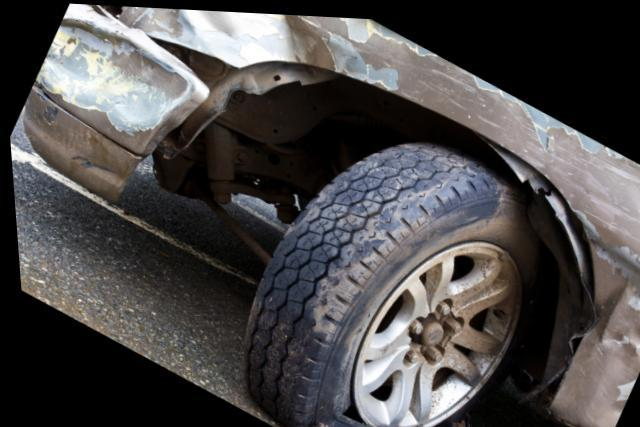dent: (35, 19, 190, 133), (181, 7, 314, 63)
scratch: (319, 13, 640, 280)
tire flat: (239, 137, 536, 427)
